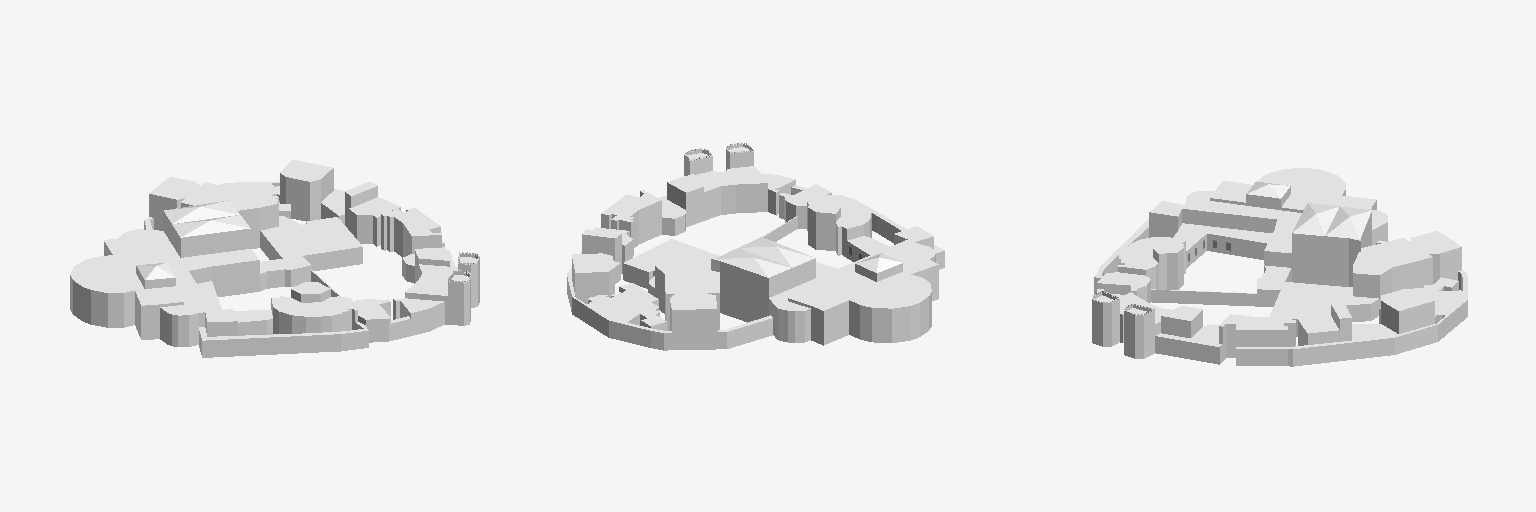
Rendered from castleWindows 1.obj.
3 renders of one model, left to right at view 1: azimuth 30°, elevation 25°; view 2: azimuth 150°, elevation 25°; view 3: azimuth 270°, elevation 25°, orthographic.
Visible parts, largest first — view 1: Group1_ID4; view 2: Group1_ID4; view 3: Group1_ID4.
Part boxes in pixels (x1,y1,x2,y2): Group1_ID4: (70,160,479,357); Group1_ID4: (567,142,944,350); Group1_ID4: (1092,168,1467,366).
Size of the model in its own units: 106 by 17.38 by 103.